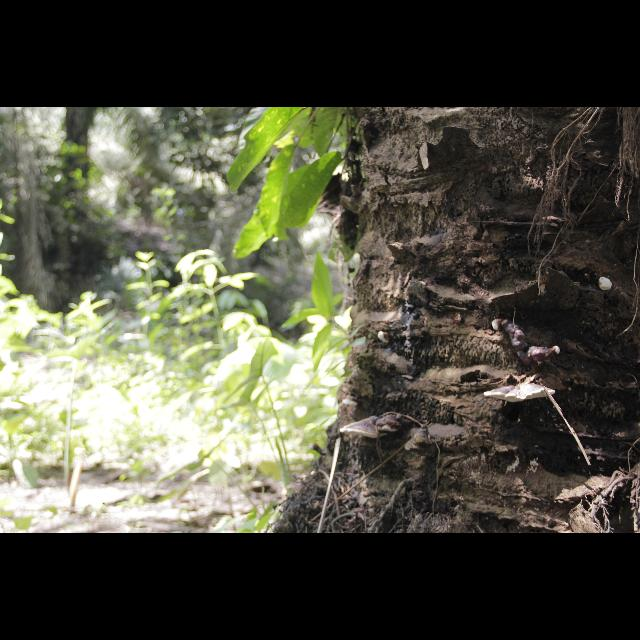ganoderma: (504, 321, 553, 368), (485, 384, 558, 405), (341, 417, 389, 440), (377, 415, 412, 433)
primordium: (599, 278, 613, 292), (379, 332, 392, 344), (492, 320, 502, 332), (309, 444, 321, 453), (553, 348, 561, 357)
